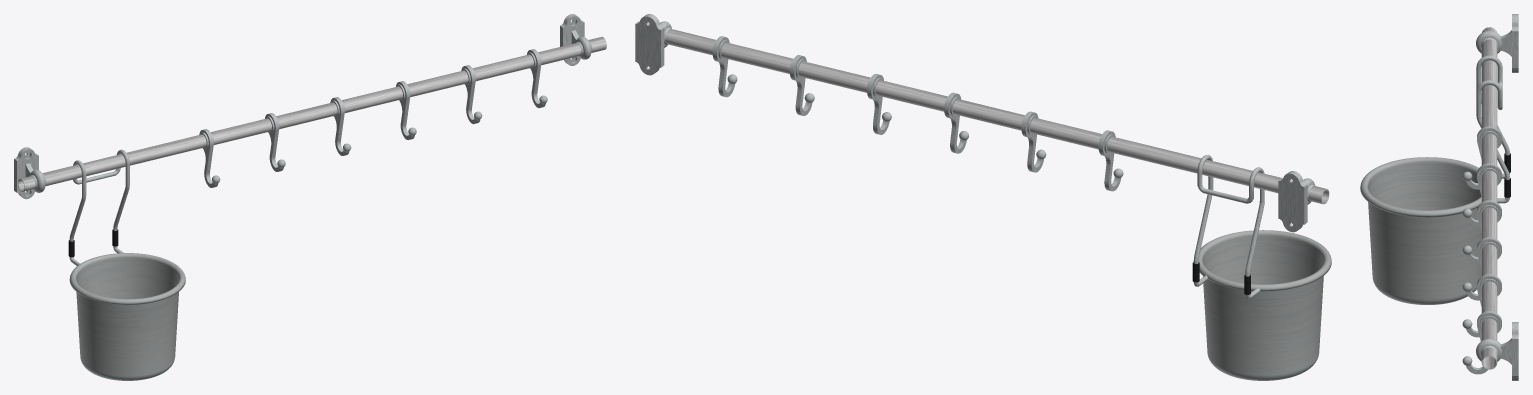
Rendered from 025 - stand divari ikea talaei.glb.
3 views of the same model, side by side, from view 1: azimuth 30°, elevation 25°; view 2: azimuth 150°, elevation 25°; view 3: azimuth 270°, elevation 25° (orthographic). The views are drawn at different scales.
Visible parts, largest first — view 1: Group#16 [103307], Group#18 [149613], Group#8 [149616] (×6), [7792], Group#3 [149615], Group#2 [149614]; view 2: Group#16 [103307], Group#18 [149613], Group#8 [149616] (×6), [7792], Group#2 [149614], Group#3 [149615]; view 3: Group#16 [103307], Group#18 [149613], Group#8 [149616] (×6), [7792], Group#3 [149615], Group#2 [149614].
Part boxes in pixels (x1,y1,x2,y2): Group#16 [103307]: (69,253,185,380); Group#18 [149613]: (18,36,606,191); Group#8 [149616] (×6): (199,49,547,187); [7792]: (69,149,160,304); Group#3 [149615]: (14,147,46,199); Group#2 [149614]: (560,14,592,65); Group#16 [103307]: (1198,230,1331,380); Group#18 [149613]: (648,23,1329,204); Group#8 [149616] (×6): (712,36,1123,191); [7792]: (1193,155,1288,299); Group#2 [149614]: (635,14,671,75); Group#3 [149615]: (1278,171,1315,232); Group#16 [103307]: (1360,157,1481,304); Group#18 [149613]: (1481,27,1497,369); Group#8 [149616] (×6): (1462,126,1501,374); [7792]: (1381,55,1509,217); Group#3 [149615]: (1476,14,1518,72); Group#2 [149614]: (1476,322,1518,380).
Bounding box in the file's own units: 0.8 × 0.2667 × 0.163.
Materials: 5 (5 with a texture image).
